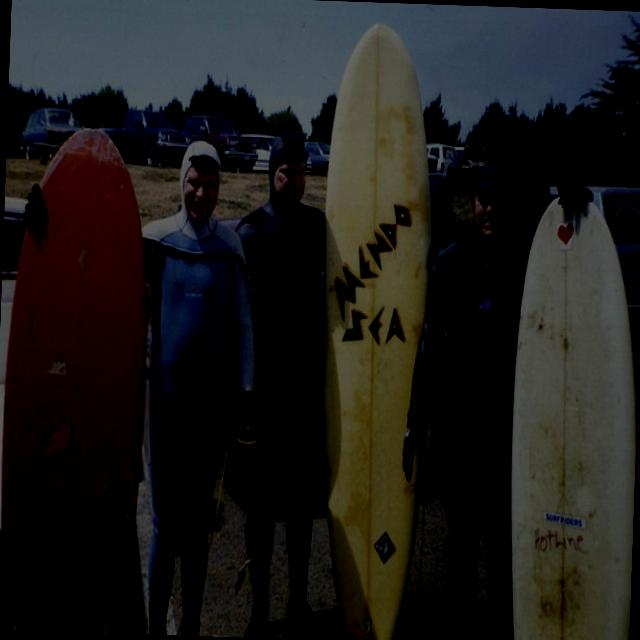Vehicle: (425, 123, 640, 389), (578, 184, 640, 304), (98, 109, 194, 170), (178, 114, 258, 174), (19, 106, 81, 161), (238, 131, 314, 175), (33, 126, 80, 160), (422, 140, 457, 173), (301, 142, 330, 174), (425, 152, 439, 172)
